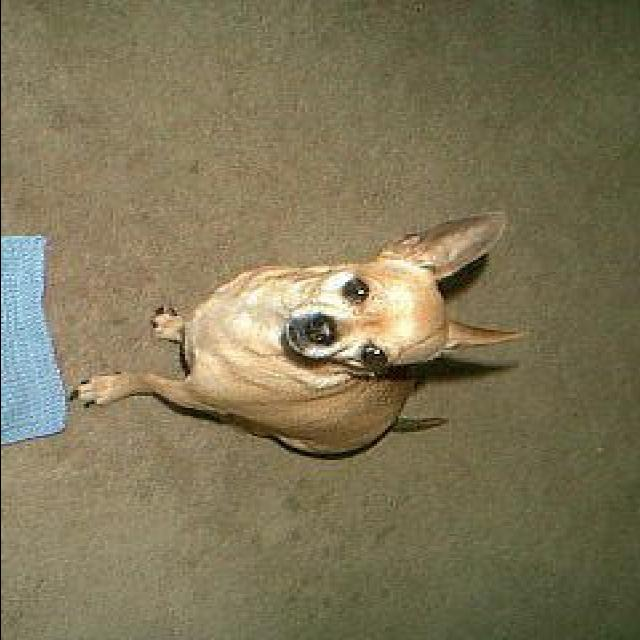chihuahua: (62, 210, 536, 458)
